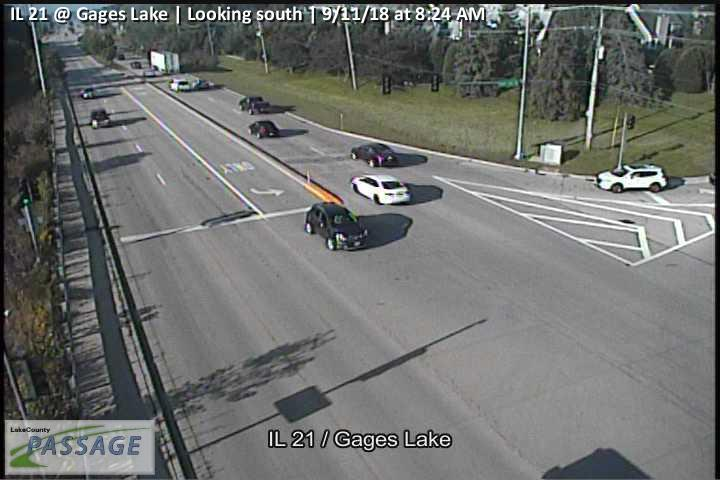SUV: (304, 202, 369, 251), (594, 163, 668, 194), (88, 107, 111, 128), (168, 77, 190, 92), (130, 61, 141, 69)
Sedan: (351, 175, 411, 205), (350, 142, 398, 167), (247, 120, 279, 138), (80, 87, 96, 98), (193, 79, 210, 89), (143, 70, 155, 76)
Truck: (149, 49, 180, 74), (238, 95, 271, 114)
